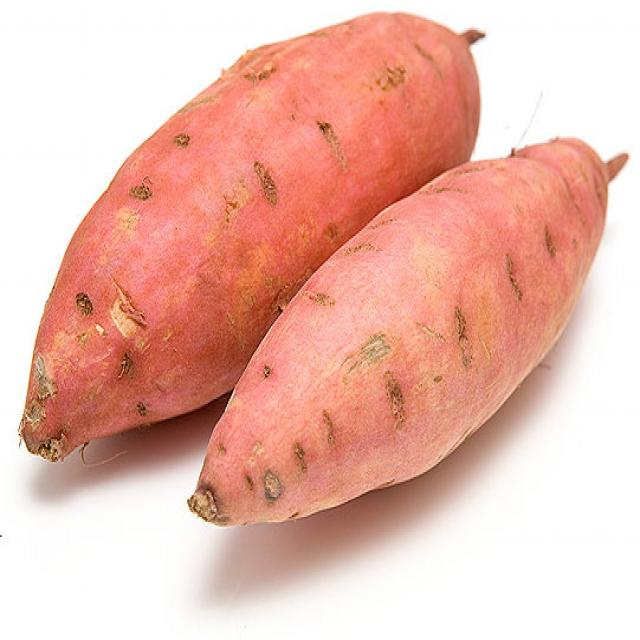Sweet Potato: (384, 137, 627, 449), (194, 243, 437, 528), (20, 163, 213, 463), (130, 14, 489, 158)
